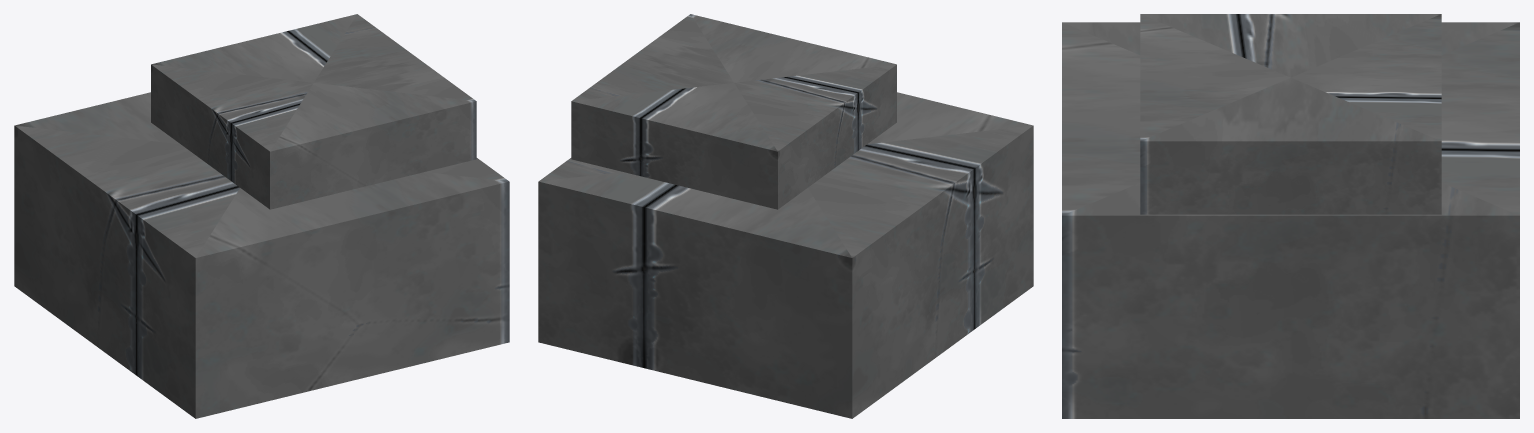
The model's file is Blacksmith_AnvilBlock.fbx.
3 views of the same model, side by side, from view 1: azimuth 30°, elevation 25°; view 2: azimuth 150°, elevation 25°; view 3: azimuth 270°, elevation 25° (orthographic). The views are drawn at different scales.
Visible parts, largest first — view 1: Cube.005, Cube.001; view 2: Cube.005, Cube.001; view 3: Cube.005, Cube.001.
Boxes of the visible parts, x1=… form: Cube.005: x1=14, y1=92, x2=509, y2=418; Cube.001: x1=151, y1=14, x2=476, y2=209; Cube.005: x1=538, y1=92, x2=1033, y2=418; Cube.001: x1=571, y1=14, x2=896, y2=209; Cube.005: x1=1062, y1=22, x2=1519, y2=418; Cube.001: x1=1140, y1=14, x2=1441, y2=214.
Bounding box in the file's own units: 0.9238 × 0.6157 × 0.9238.
